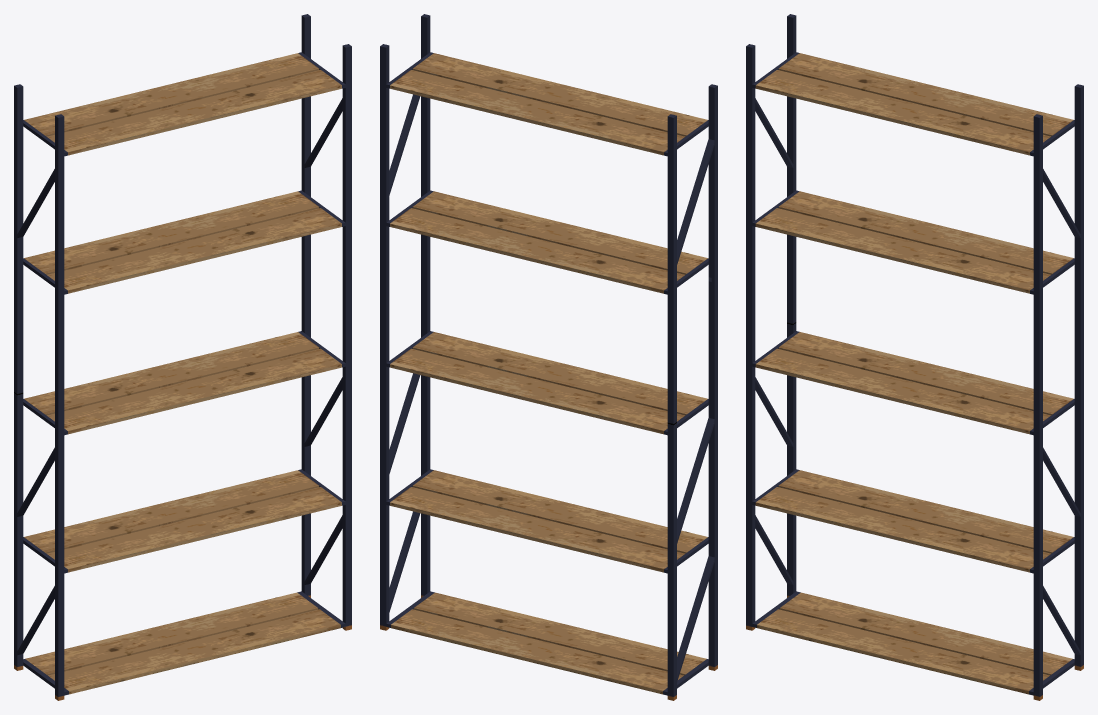
The picture shows the model from 3 angles, left to right: view 1: azimuth 30°, elevation 25°; view 2: azimuth 150°, elevation 25°; view 3: azimuth 330°, elevation 25°; orthographic projection.
Visible parts, largest first — view 1: pCube427; view 2: pCube427; view 3: pCube427.
Part boxes in pixels (<box>): pCube427: <box>14,14,351,700</box>; pCube427: <box>380,14,717,700</box>; pCube427: <box>746,14,1083,700</box>.
Size of the model in its own units: 538 by 1020 by 140.
1 material, 1 textured.
